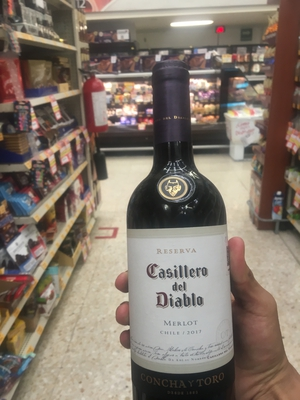casillero del diablo merlot: (122, 67, 242, 400)
